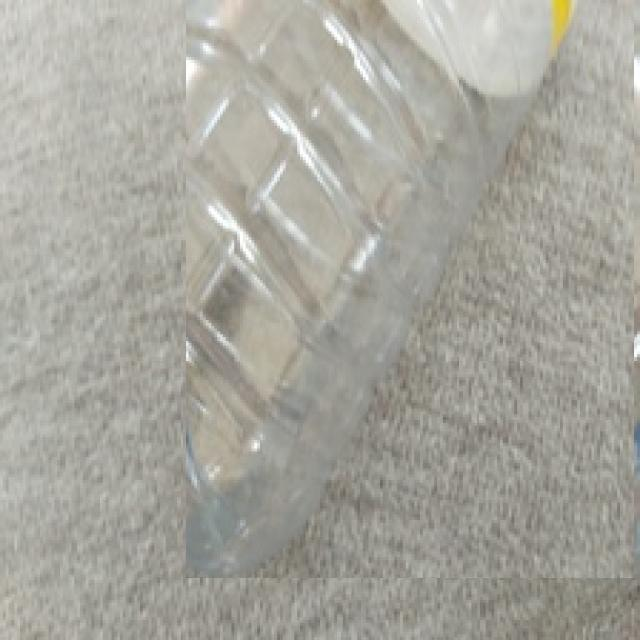defected: (187, 0, 635, 578)
